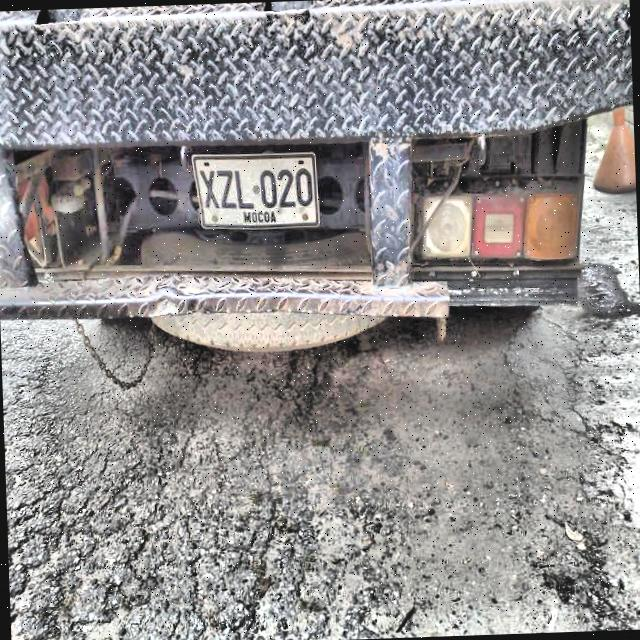0: (258, 168, 278, 209), (294, 166, 313, 207)
2: (276, 168, 297, 208)
L: (233, 169, 255, 210)
X: (198, 169, 221, 210)
Z: (216, 169, 237, 210)
